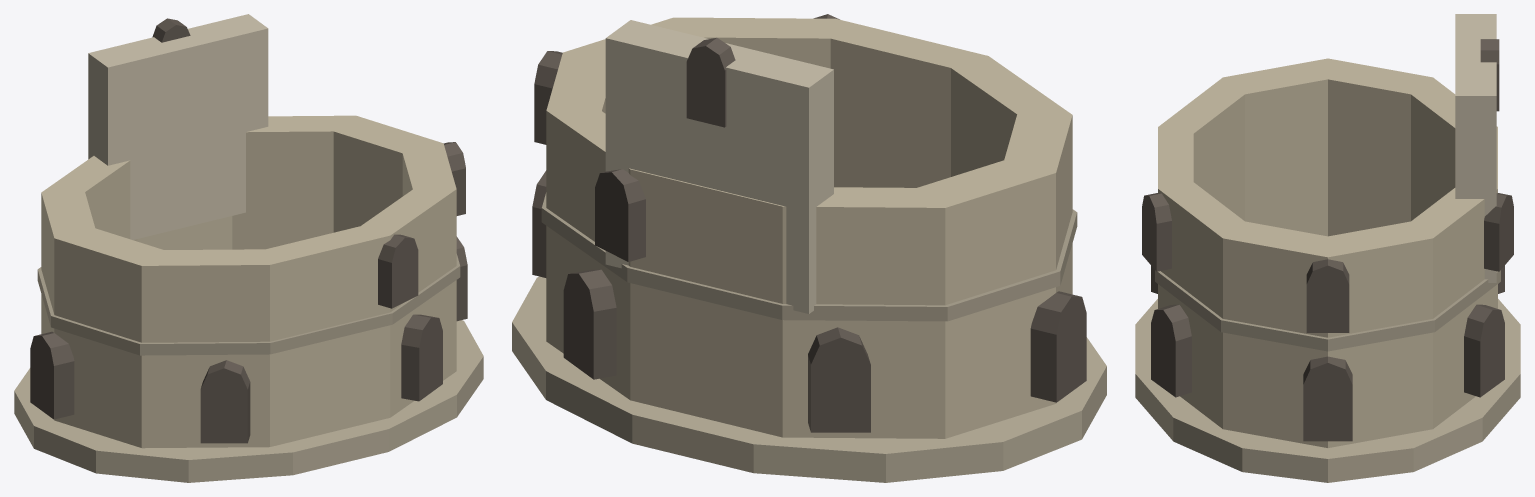
3 views of the same model, side by side, from view 1: azimuth 30°, elevation 25°; view 2: azimuth 150°, elevation 25°; view 3: azimuth 270°, elevation 25° (orthographic). The views are drawn at different scales.
Parts seen in each view (by area): view 1: part1, part13, part0, part2, part8, part7, part9, part10, part11, part4, part14; view 2: part1, part13, part0, part2, part6, part7, part5, part12, part14, part11, part4; view 3: part1, part0, part13, part2, part4, part5, part9, part11, part10, part12, part14.
Boxes of the visible parts, box(x1,y1,x2,y2) form: part1: box(41, 115, 456, 448); part13: box(88, 14, 268, 239); part0: box(14, 320, 483, 482); part2: box(37, 254, 460, 355); part8: box(200, 360, 250, 443); part7: box(30, 331, 74, 419); part9: box(401, 314, 442, 401); part10: box(378, 234, 418, 308); part11: box(443, 142, 465, 215); part4: box(456, 236, 467, 321); part14: box(152, 18, 190, 42); part1: box(546, 17, 1072, 438); part13: box(605, 20, 833, 313); part0: box(512, 276, 1106, 482); part2: box(541, 192, 1077, 321); part6: box(808, 327, 870, 432); part7: box(1030, 291, 1086, 402); part5: box(563, 269, 616, 379); part12: box(595, 169, 645, 261); part14: box(686, 37, 735, 127); part11: box(534, 51, 562, 144); part4: box(532, 170, 546, 277); part1: box(1158, 58, 1497, 447); part0: box(1135, 299, 1520, 482); part13: box(1455, 14, 1496, 282); part2: box(1155, 270, 1500, 351); part4: box(1303, 356, 1352, 441); part5: box(1464, 304, 1504, 397); part9: box(1151, 304, 1191, 397); part11: box(1306, 259, 1349, 332); part10: box(1142, 193, 1171, 271); part12: box(1484, 193, 1513, 271); part14: box(1480, 39, 1499, 111).
Size of the model in its own units: 6.3 by 4.45 by 4.67.
